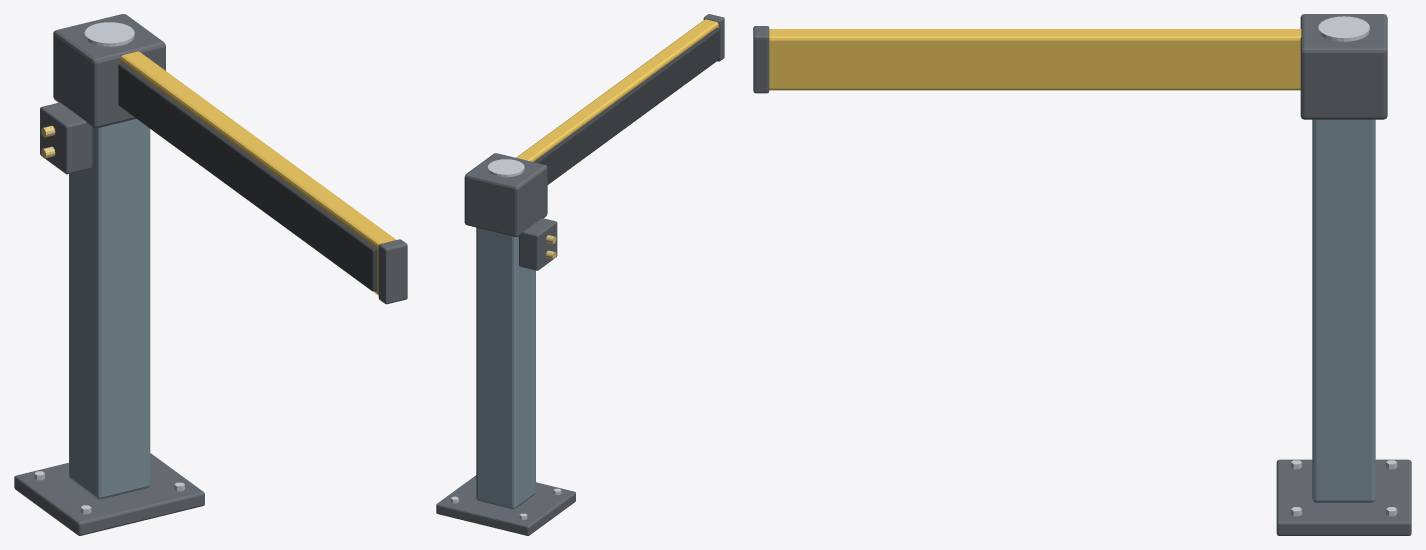
The model's file is stopper_visual.glb.
3 views of the same model, side by side, from view 1: azimuth 30°, elevation 25°; view 2: azimuth 150°, elevation 25°; view 3: azimuth 270°, elevation 25° (orthographic). The views are drawn at different scales.
Parts seen in each view (by area): view 1: PedestalColumn, SwingArm, SideBasePlate, RotaryActuator, SolenoidManifold, RotaryHub; view 2: PedestalColumn, SwingArm, RotaryActuator, SideBasePlate, SolenoidManifold, RotaryHub; view 3: SwingArm, PedestalColumn, RotaryActuator, SideBasePlate, RotaryHub.
Boxes of the visible parts, bbox=[...] form: PedestalColumn: bbox=[69, 119, 150, 499]; SwingArm: bbox=[118, 51, 407, 304]; SideBasePlate: bbox=[14, 453, 204, 535]; RotaryActuator: bbox=[53, 14, 165, 128]; SolenoidManifold: bbox=[40, 102, 92, 174]; RotaryHub: bbox=[84, 22, 134, 46]; PedestalColumn: bbox=[476, 227, 535, 509]; SwingArm: bbox=[516, 14, 724, 184]; RotaryActuator: bbox=[464, 153, 547, 236]; SideBasePlate: bbox=[436, 475, 575, 535]; SolenoidManifold: bbox=[519, 218, 557, 270]; RotaryHub: bbox=[487, 159, 524, 177]; SwingArm: bbox=[753, 26, 1301, 93]; PedestalColumn: bbox=[1312, 119, 1375, 502]; RotaryActuator: bbox=[1300, 14, 1387, 119]; SideBasePlate: bbox=[1276, 459, 1411, 535]; RotaryHub: bbox=[1318, 16, 1369, 41].
Size of the model in its own units: 0.3875 by 1.33 by 1.66.
